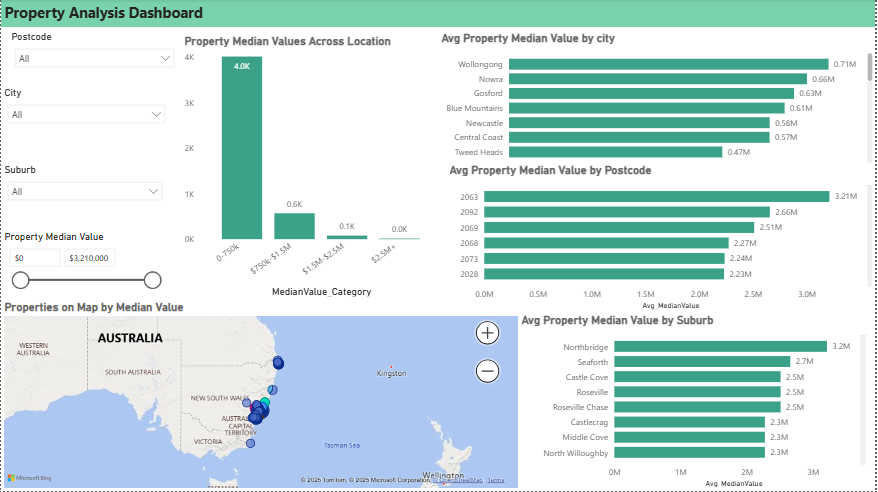

The page's visual inventory and layout, read from the dashboard file:
{"tool":"powerbi","page":{"name":"Property Analysis Dashboard","canvas":[1280,720],"ordinal":2},"visuals":[{"type":"textbox","box":[0,0,1280.5,41],"z":1000},{"type":"map","title":"Properties on Map by Median Value","fields":{"Y":["AUS_Post_suburb.lat"],"X":["AUS_Post_suburb.lon"],"Size":["Sum(NSW_PropertyMedainValue.Property_Median_Value)"],"Series":["AUS_Post_suburb.city"]},"box":[0,440.5,766.8,279.5],"z":1001},{"type":"clusteredColumnChart","title":"Property Median Values Across Location","fields":{"Y":["NSW_PropertyMedainValue.Num_Properties"],"Category":["NSW_PropertyMedainValue.MedianValue_Category"]},"box":[263.4,51.2,387.8,389.3],"z":1002},{"type":"slicer","title":"Postcode","fields":{"Values":["AUS_Post_suburb.postcode"]},"box":[10.2,46.8,253.2,101],"z":1003},{"type":"slicer","title":"Suburb","fields":{"Values":["AUS_Post_suburb.suburb"]},"box":[0,241.5,245.9,98],"z":1004},{"type":"slicer","title":"City","fields":{"Values":["AUS_Post_suburb.city"]},"box":[0,128.8,250.2,98],"z":1005},{"type":"slicer","title":"Property Median Value","fields":{"Values":["NSW_PropertyMedainValue.Property_Median_Value"]},"box":[0,339.5,242.9,101],"z":1006},{"type":"clusteredBarChart","title":"Avg Property Median Value by city","fields":{"Category":["AUS_Post_suburb.city"],"Y":["NSW_PropertyMedainValue.Avg_MedianValue"]},"box":[639.5,46.8,641,232.7],"z":1007},{"type":"barChart","title":"Avg Property Median Value by Suburb","fields":{"Category":["AUS_Post_suburb.suburb"],"Y":["NSW_PropertyMedainValue.Avg_MedianValue"]},"box":[756.6,459.5,513.7,260.5],"z":1008},{"type":"barChart","title":"Avg Property Median Value by Postcode","fields":{"Category":["AUS_Post_suburb.postcode"],"Y":["NSW_PropertyMedainValue.Avg_MedianValue"]},"box":[651.2,240,629.3,219.5],"z":1009}]}

Visuals, with their boxes in screenshot pixels (x1, y1, x2, y2), scaled from the page's 1280x720 canvas onto the 878x492 screenshot:
textbox: <bbox>0, 0, 877, 28</bbox>
"Properties on Map by Median Value" map: <bbox>0, 301, 526, 491</bbox>
"Property Median Values Across Location" clusteredColumnChart: <bbox>181, 35, 447, 301</bbox>
"Postcode" slicer: <bbox>7, 32, 181, 101</bbox>
"Suburb" slicer: <bbox>0, 165, 169, 232</bbox>
"City" slicer: <bbox>0, 88, 172, 155</bbox>
"Property Median Value" slicer: <bbox>0, 232, 167, 301</bbox>
"Avg Property Median Value by city" clusteredBarChart: <bbox>439, 32, 877, 191</bbox>
"Avg Property Median Value by Suburb" barChart: <bbox>519, 314, 871, 491</bbox>
"Avg Property Median Value by Postcode" barChart: <bbox>447, 164, 877, 314</bbox>
